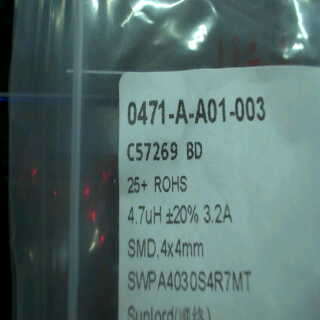4.7uH: (125, 197, 163, 232)
